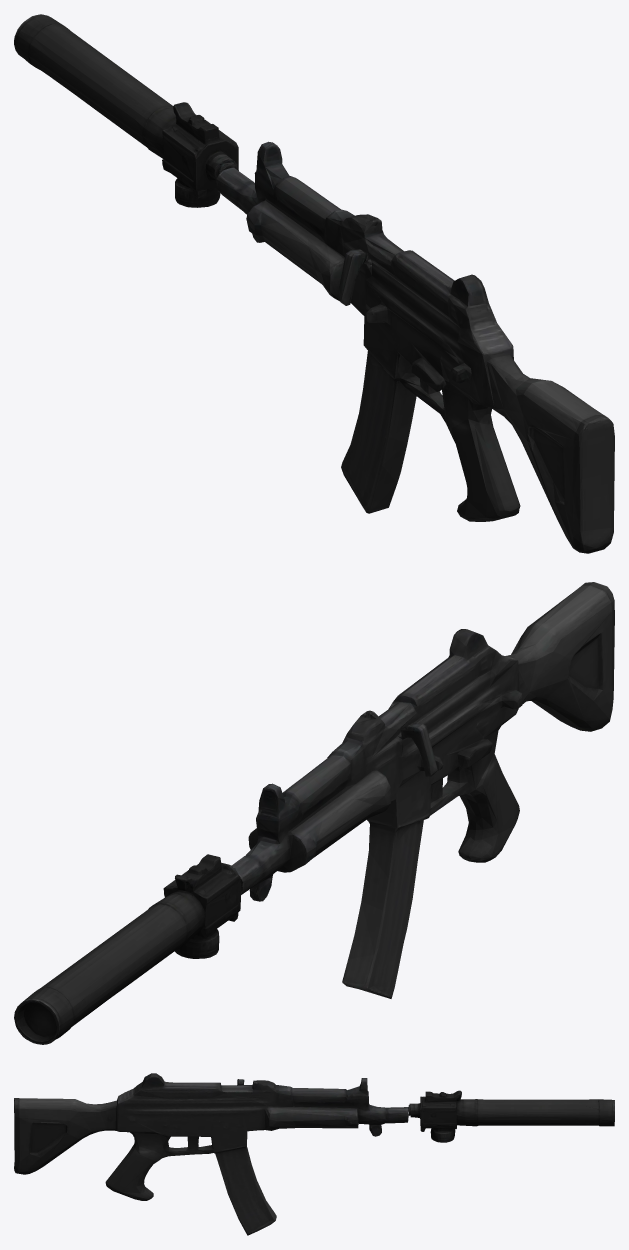
The model's file is mp5k_suppressed.glb.
3 views of the same model, one above another, from view 1: azimuth 30°, elevation 25°; view 2: azimuth 150°, elevation 25°; view 3: azimuth 270°, elevation 25° (orthographic). The views are drawn at different scales.
Visible parts, largest first — view 1: mp5k_suppressed; view 2: mp5k_suppressed; view 3: mp5k_suppressed.
Part boxes in pixels (x1,y1,x2,y2): mp5k_suppressed: (14, 14, 614, 553); mp5k_suppressed: (14, 582, 614, 1044); mp5k_suppressed: (14, 1073, 614, 1235).
Size of the model in its own units: 0.0542 by 0.2004 by 0.6827.
2 materials, 2 textured.
